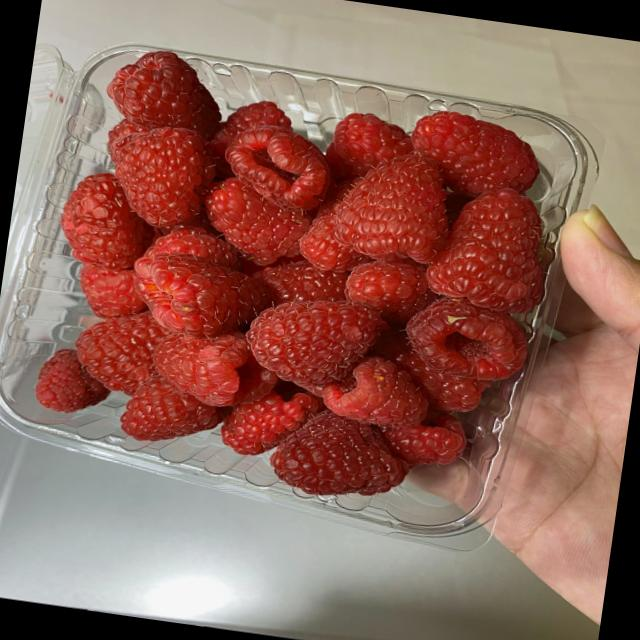raspberries: (26, 50, 554, 523)
